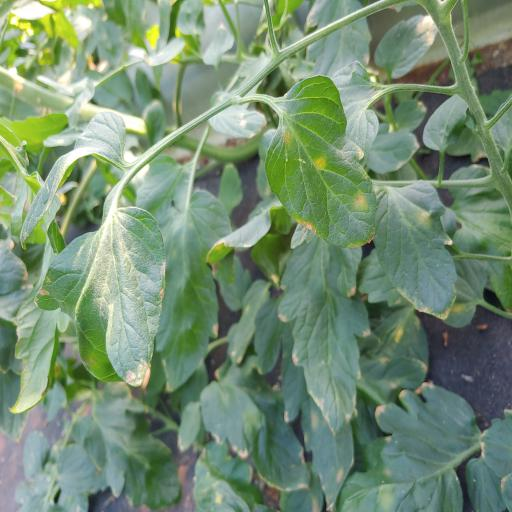Leaf Mold: (265, 74, 378, 250), (375, 182, 457, 321)
